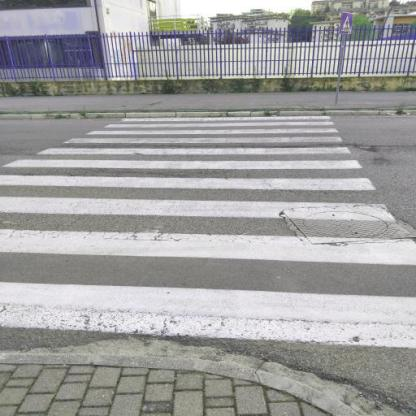crosswalk: (1, 193, 415, 272), (29, 134, 359, 158), (99, 116, 343, 128)
